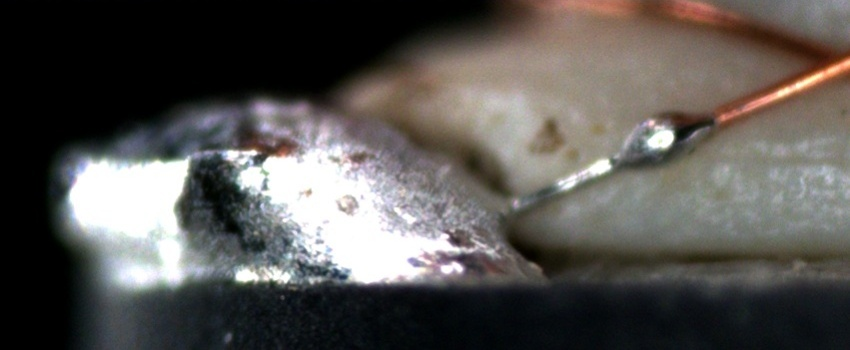CL: (797, 25, 848, 90)
DL: (686, 129, 849, 193)
TB: (603, 103, 715, 177)
TS: (509, 111, 719, 215)
TTCW: (503, 81, 779, 218)
